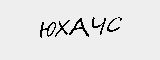А: (70, 14, 90, 40)
С: (106, 15, 123, 33)
Х: (52, 18, 69, 39)
Ч: (89, 14, 106, 35)
Ю: (39, 17, 56, 39)
